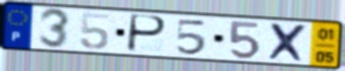3: (37, 6, 72, 52)
5: (227, 20, 263, 60), (78, 11, 112, 51), (175, 17, 209, 56)
P: (124, 13, 169, 55)
X: (266, 21, 311, 64)
